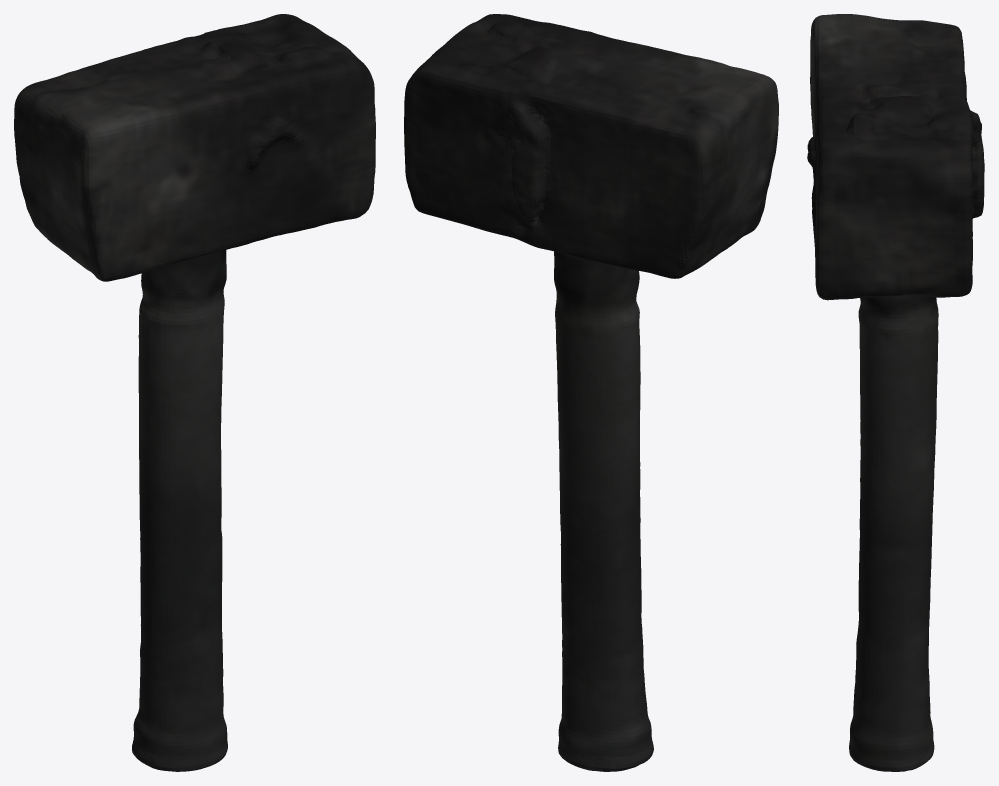
The model's file is hammer.glb.
The picture shows the model from 3 angles, left to right: view 1: azimuth 30°, elevation 25°; view 2: azimuth 150°, elevation 25°; view 3: azimuth 270°, elevation 25°; orthographic projection.
Size of the model in its own units: 0.696 by 1.54 by 0.36.
1 material, 1 textured.
